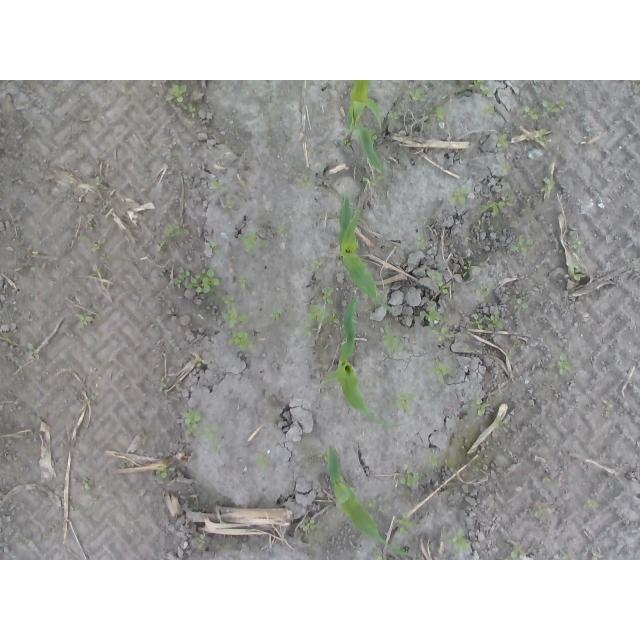Maize: (314, 298, 406, 429), (327, 444, 417, 558), (341, 194, 398, 315), (347, 81, 386, 176)
Weeds: (420, 305, 453, 343), (305, 303, 340, 337), (167, 85, 202, 118), (177, 269, 220, 295), (81, 237, 108, 275), (523, 101, 565, 122), (157, 224, 188, 252), (220, 296, 247, 328), (479, 198, 513, 218), (179, 410, 201, 437), (228, 329, 252, 352), (472, 315, 504, 332), (382, 329, 402, 356), (430, 360, 457, 380), (450, 529, 471, 554), (427, 270, 448, 294), (240, 230, 265, 250), (470, 80, 495, 98), (204, 425, 221, 451), (512, 236, 534, 256), (397, 392, 415, 414), (406, 87, 426, 105), (450, 187, 470, 205), (399, 473, 419, 489), (76, 312, 96, 327), (558, 354, 571, 377), (475, 397, 489, 417), (510, 545, 527, 560), (160, 465, 177, 480), (571, 265, 584, 283), (255, 456, 269, 472), (302, 521, 319, 533), (493, 133, 507, 147), (268, 309, 283, 322), (435, 106, 446, 123), (322, 288, 335, 301), (477, 288, 491, 300), (498, 417, 510, 431), (196, 533, 205, 551), (541, 178, 552, 192), (211, 179, 225, 190), (277, 222, 288, 234), (239, 276, 249, 289), (83, 478, 93, 491), (514, 300, 526, 308), (501, 164, 510, 173), (28, 342, 37, 351)
